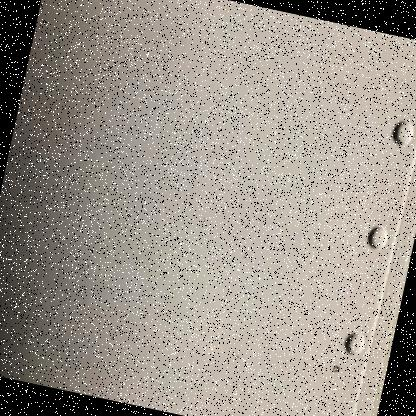Crack: (325, 358, 349, 386)
Nocrack: (0, 5, 383, 415)
